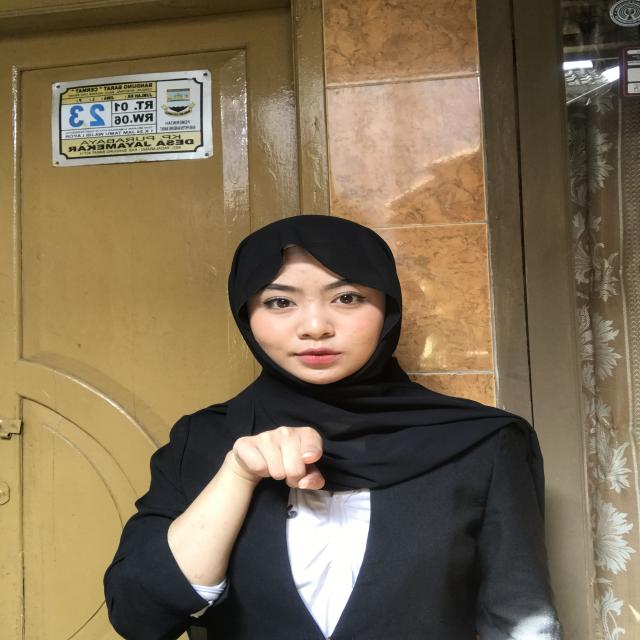kamu: (218, 410, 339, 522)
